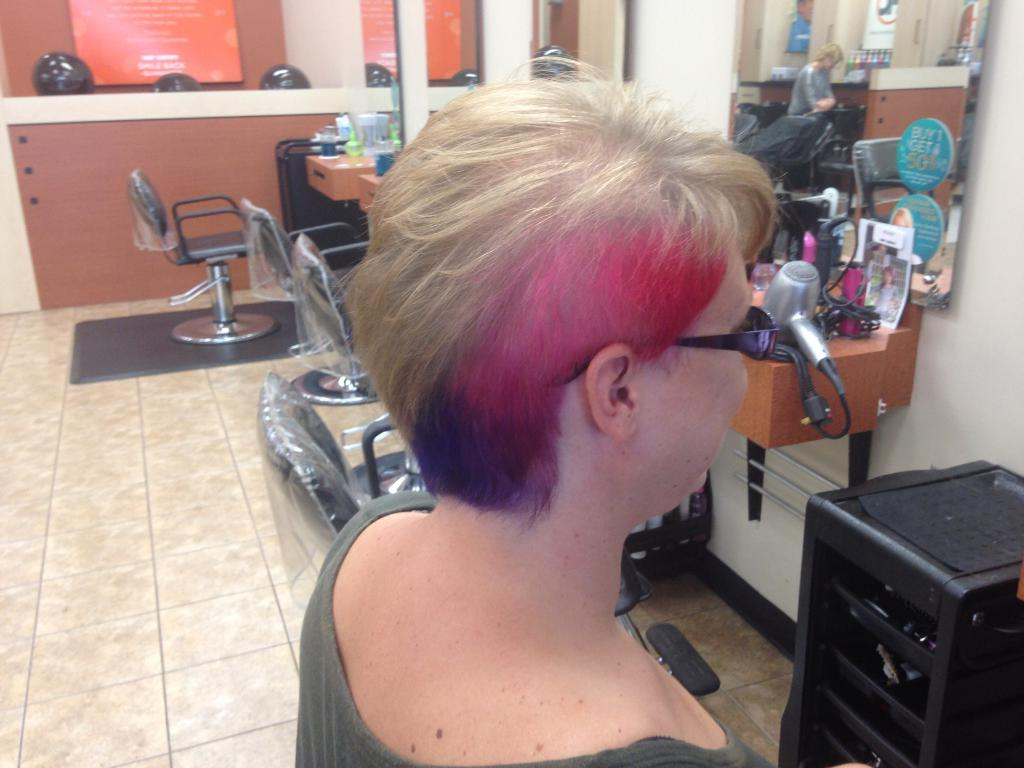Person: (295, 52, 878, 768)
